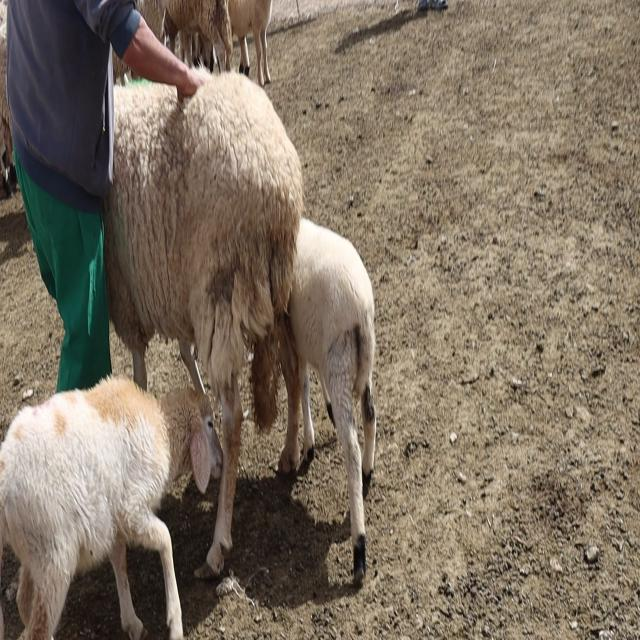Score_5: (103, 71, 303, 578)
